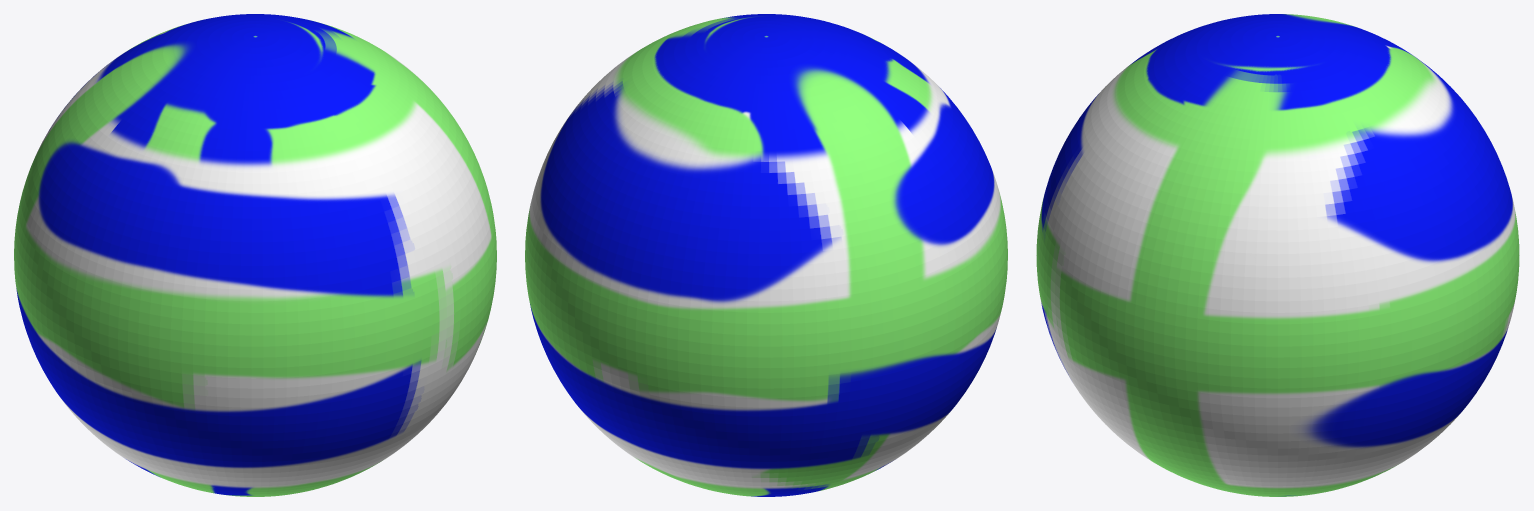
The model's file is ball.glb.
3 views of the same model, side by side, from view 1: azimuth 30°, elevation 25°; view 2: azimuth 150°, elevation 25°; view 3: azimuth 270°, elevation 25° (orthographic).
Parts seen in each view (by area): view 1: Sphere; view 2: Sphere; view 3: Sphere.
Part boxes in pixels (box(x1,y1,x2,y2)): Sphere: box(14, 14, 496, 496); Sphere: box(525, 14, 1007, 496); Sphere: box(1036, 14, 1519, 496).
Bounding box in the file's own units: 2 × 2 × 2.
1 material, 1 textured.
